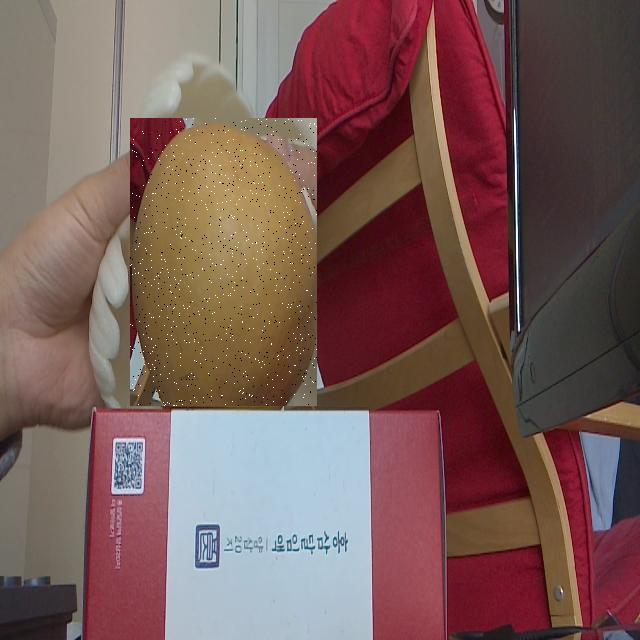pear: (130, 118, 317, 406)
